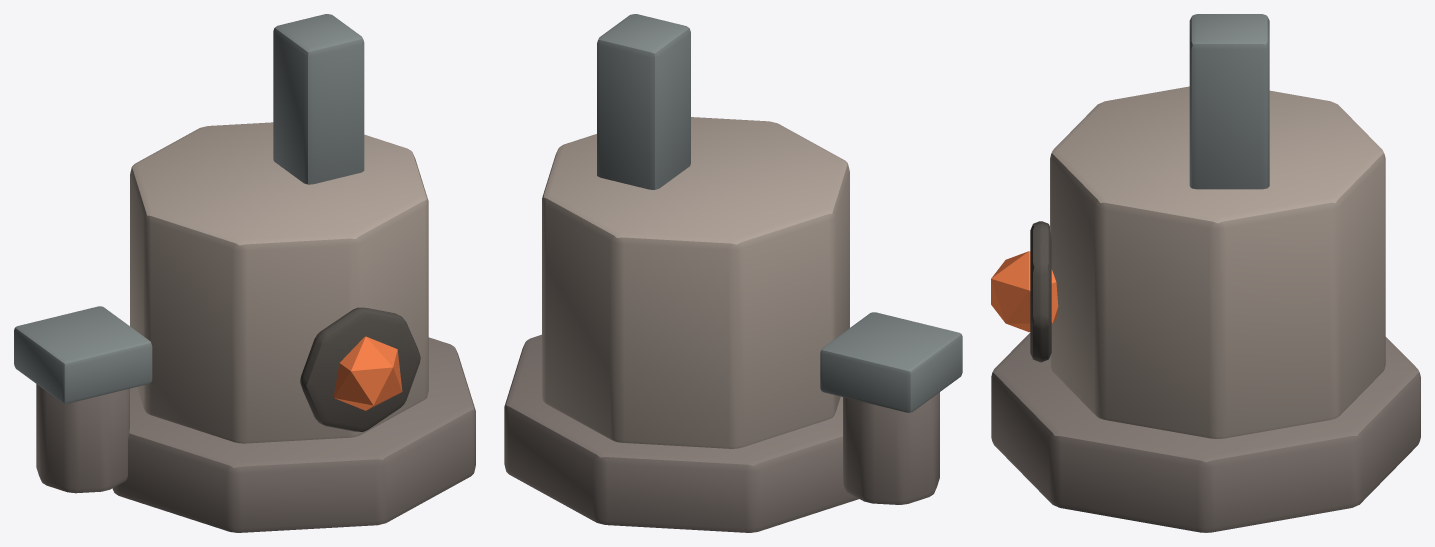
The model's file is building_ember_kiln_v1.glb.
The picture shows the model from 3 angles, left to right: view 1: azimuth 30°, elevation 25°; view 2: azimuth 150°, elevation 25°; view 3: azimuth 270°, elevation 25°; orthographic projection. The views are drawn at different scales.
Visible parts, largest first — view 1: KilnBody, KilnStoneBase, KilnChimney, KilnAnvil, KilnAnvilBlock, KilnMouth, KilnEmber; view 2: KilnBody, KilnStoneBase, KilnChimney, KilnAnvil, KilnAnvilBlock; view 3: KilnBody, KilnStoneBase, KilnChimney, KilnMouth, KilnEmber.
Boxes of the visible parts, x1,y1,x2,y2 form: KilnBody: (130,122,428,443); KilnStoneBase: (112,337,475,532); KilnChimney: (273,14,364,184); KilnAnvil: (14,306,152,403); KilnAnvilBlock: (36,384,129,493); KilnMouth: (300,307,420,431); KilnEmber: (334,336,402,410); KilnBody: (542,117,849,448); KilnStoneBase: (504,334,858,532); KilnChimney: (597,14,690,189); KilnAnvil: (820,312,962,412); KilnAnvilBlock: (843,392,939,504); KilnBody: (1050,86,1385,438); KilnStoneBase: (991,333,1420,532); KilnChimney: (1189,14,1269,189); KilnMouth: (1030,221,1051,362); KilnEmber: (991,251,1058,332).
Bounding box in the file's own units: 2.18 × 2.07 × 1.82.
